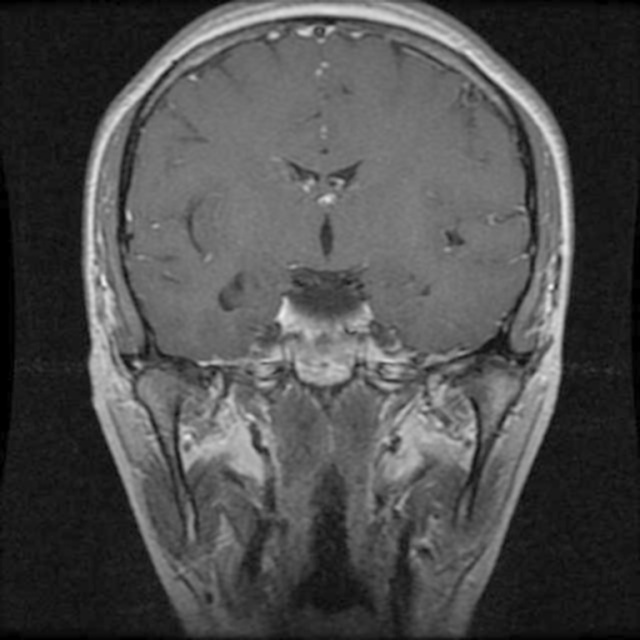no tumor: (272, 285, 368, 381)
